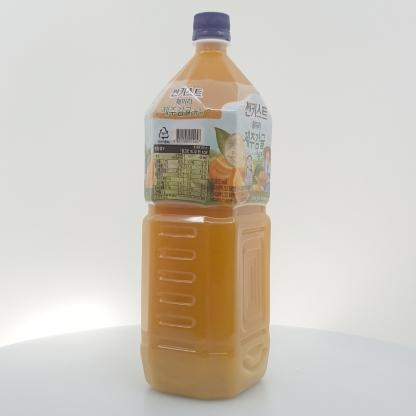-----------2L: (140, 12, 272, 400)
